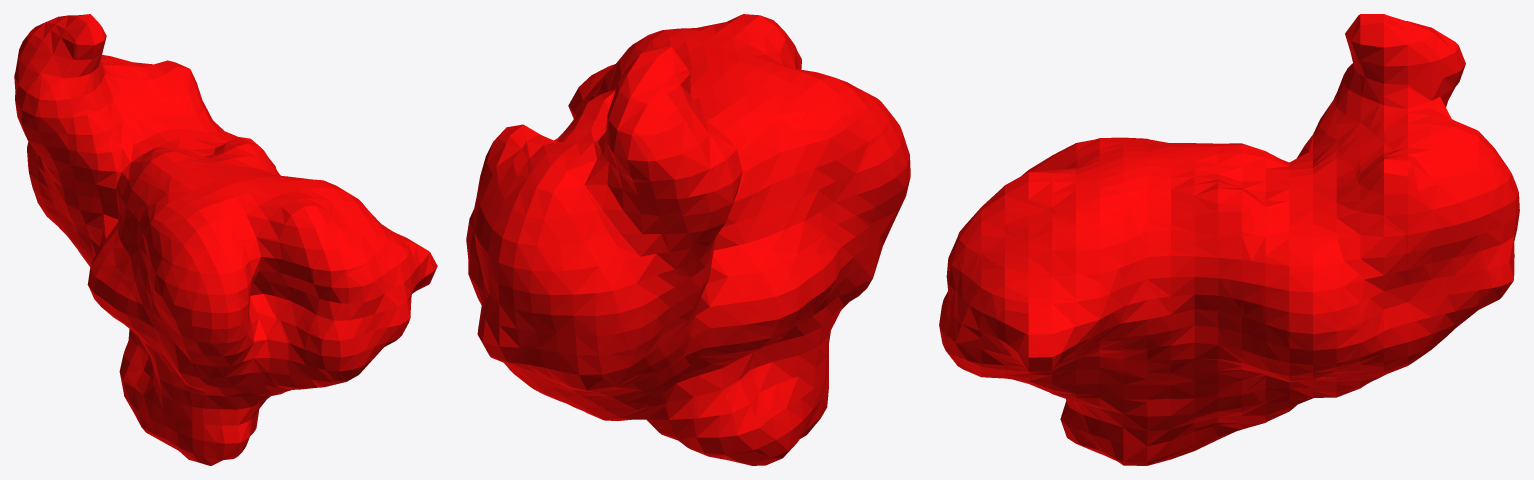
The model's file is fabR_coarse.dae.
3 views of the same model, side by side, from view 1: azimuth 30°, elevation 25°; view 2: azimuth 150°, elevation 25°; view 3: azimuth 270°, elevation 25° (orthographic). The views are drawn at different scales.
Parts seen in each view (by area): view 1: fabR; view 2: fabR; view 3: fabR.
Part boxes in pixels (<box>): fabR: <box>14,14,437,465</box>; fabR: <box>466,14,910,465</box>; fabR: <box>939,14,1519,465</box>.
Bounding box in the file's own units: 42.23 × 55.93 × 68.07.
